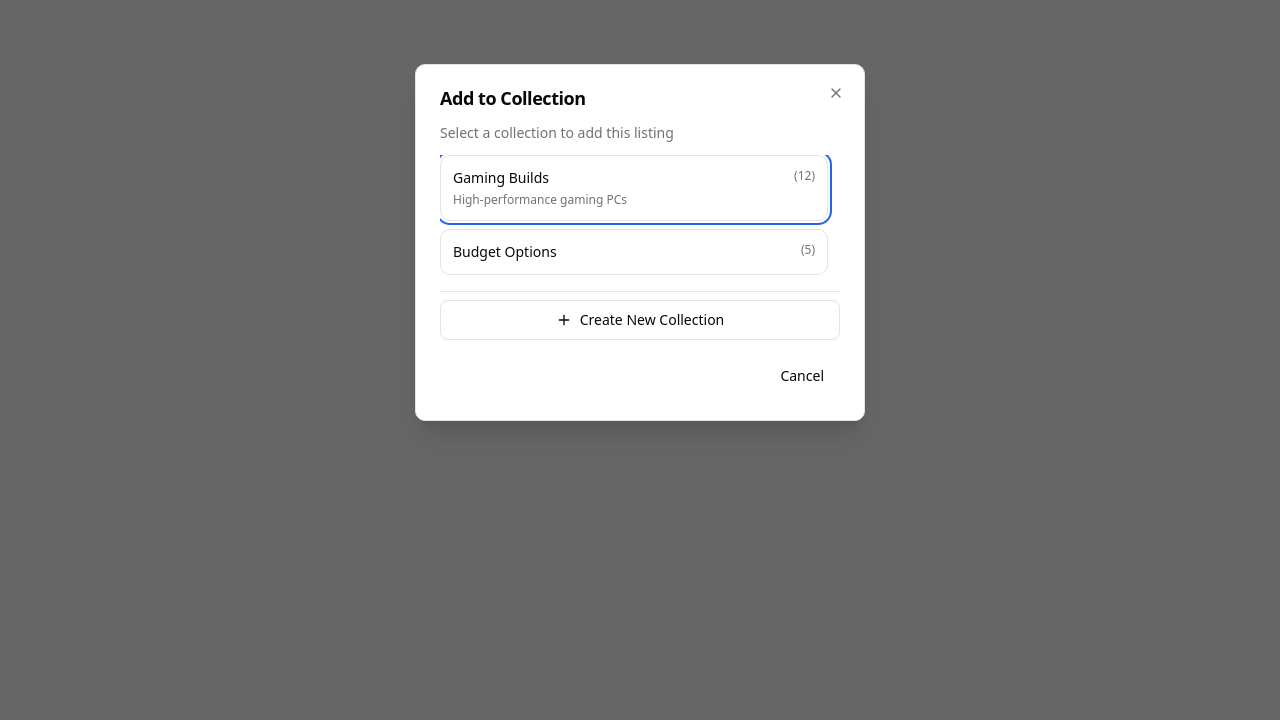
CollectionSelectorModal › Create New Collection Mode › returns to list view when back button is clicked
This screenshot has width=1280, height=720.
Note: Go to create mode
Step 1. Click the button "Create New Collection" → (640, 320), box [440,300,840,340]
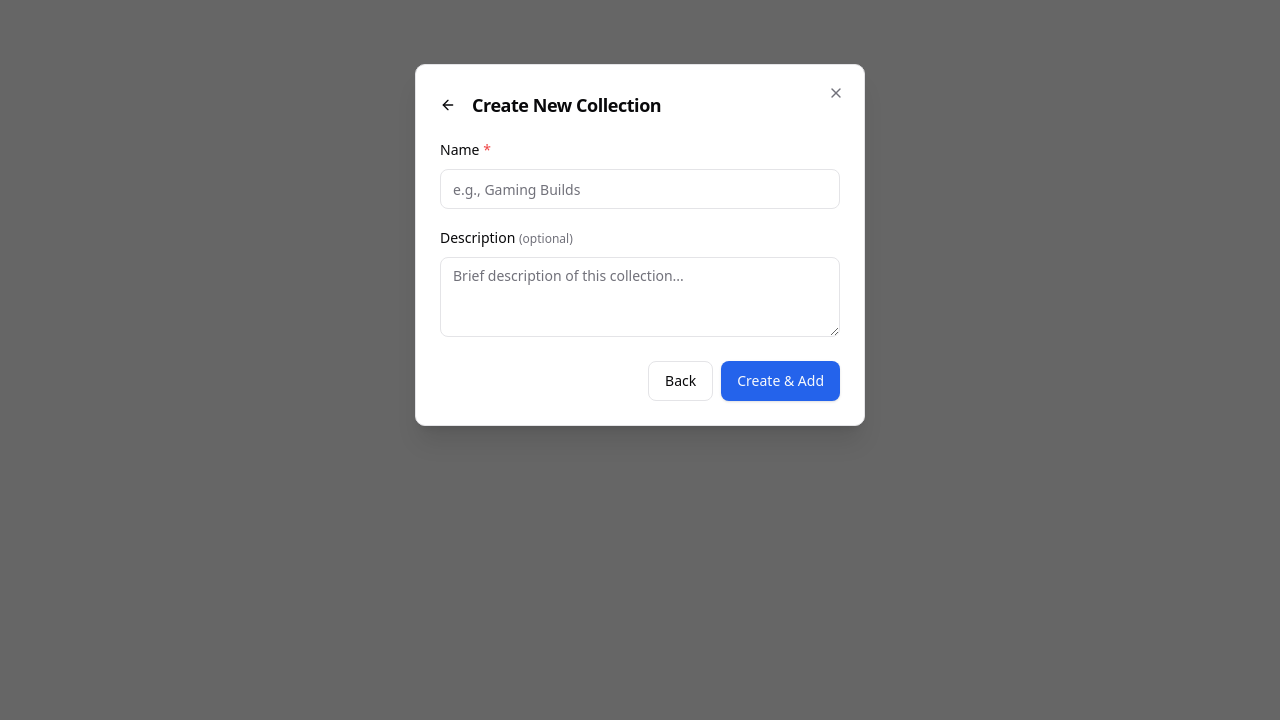
Note: Click back
Step 2. Click the button named "Back to collections list" → (448, 105), box [432,89,464,121]
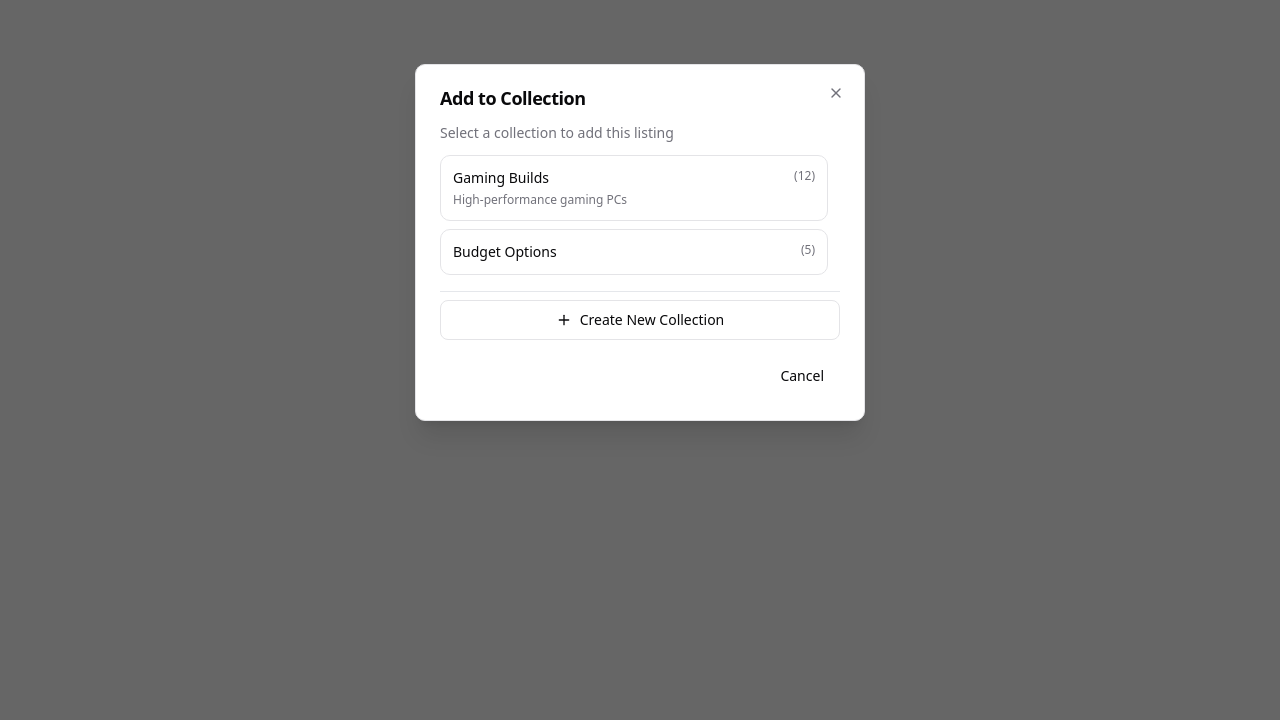
Now the heading "Add to Collection" is shown, box [440,86,586,110]
Now the text "Gaming Builds" is shown, box [453,168,549,187]
